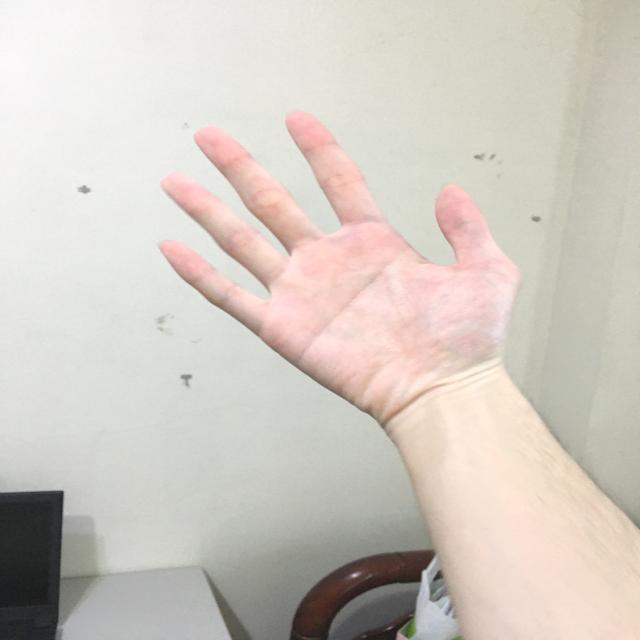no_glove: (145, 91, 542, 448)
